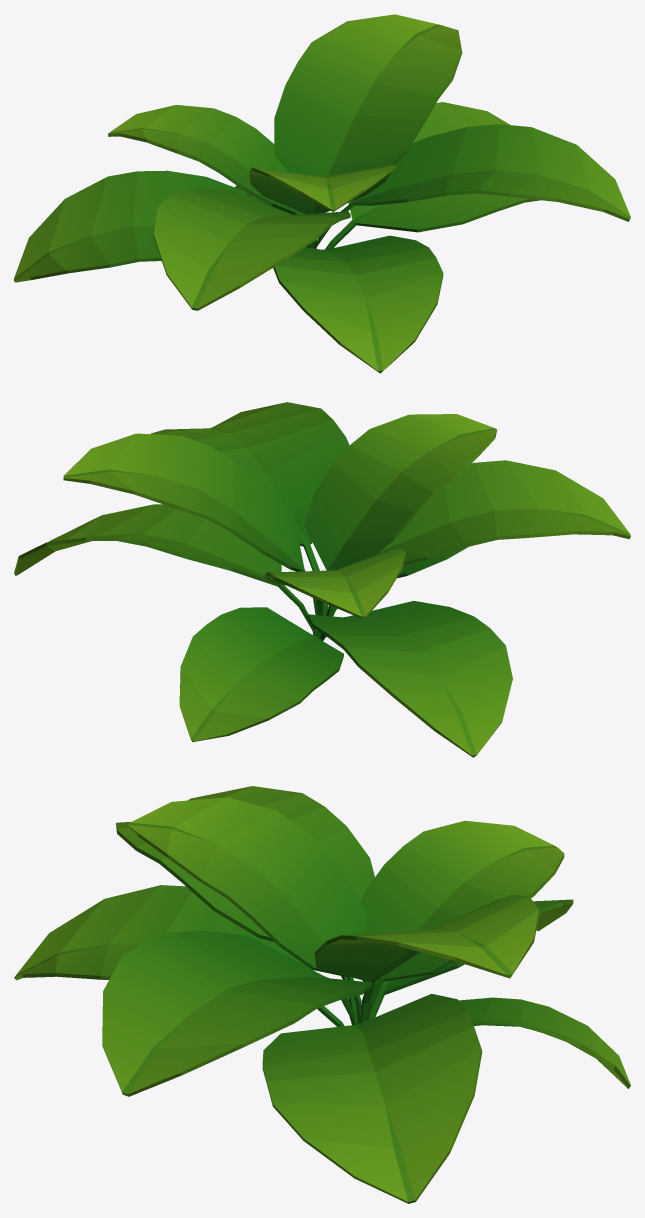
File: Plant_03.fbx
3 renders of one model, top to bottom at view 1: azimuth 30°, elevation 25°; view 2: azimuth 150°, elevation 25°; view 3: azimuth 270°, elevation 25°, orthographic. The views are drawn at different scales.
Visible parts, largest first — view 1: Plant_03; view 2: Plant_03; view 3: Plant_03.
Part boxes in pixels (x1,y1,x2,y2): Plant_03: [14, 14, 630, 373]; Plant_03: [14, 402, 630, 757]; Plant_03: [14, 786, 630, 1203].
Bounding box in the file's own units: 88.02 × 33.58 × 76.77.
